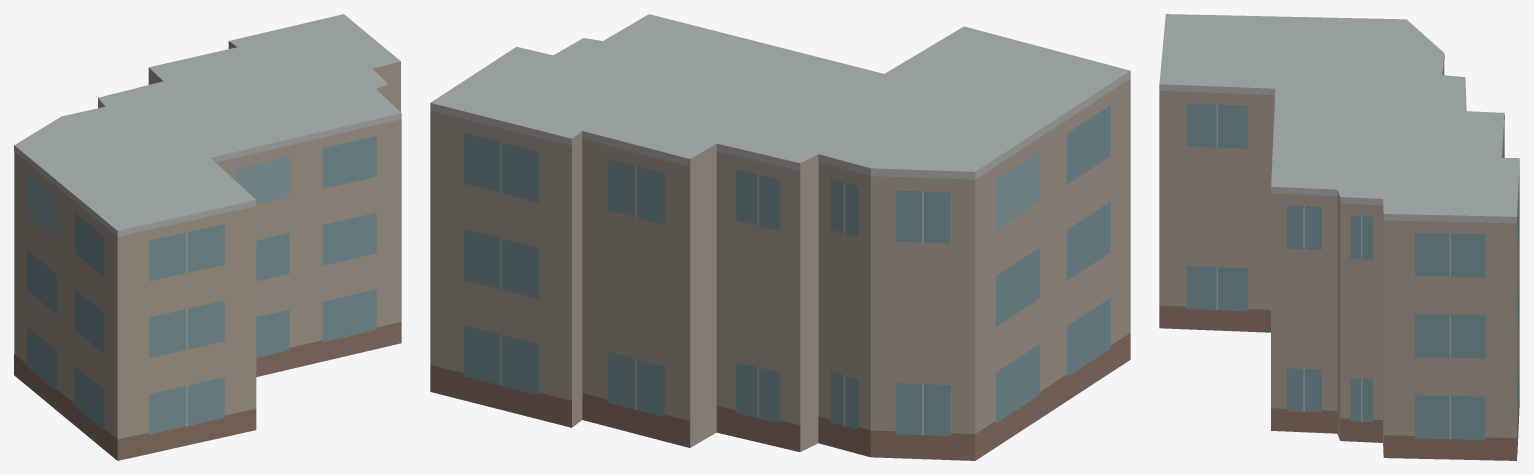
The model's file is survey-upis-32919463.glb.
The picture shows the model from 3 angles, left to right: view 1: azimuth 30°, elevation 25°; view 2: azimuth 150°, elevation 25°; view 3: azimuth 270°, elevation 25°; orthographic projection. The views are drawn at different scales.
Visible parts, largest first — view 1: survey-upis-32919463.tmp; view 2: survey-upis-32919463.tmp; view 3: survey-upis-32919463.tmp.
Boxes of the visible parts, bbox=[...] form: survey-upis-32919463.tmp: bbox=[14, 14, 401, 460]; survey-upis-32919463.tmp: bbox=[430, 14, 1130, 460]; survey-upis-32919463.tmp: bbox=[1159, 14, 1519, 460].
Size of the model in its own units: 16.32 by 9.15 by 12.25.
